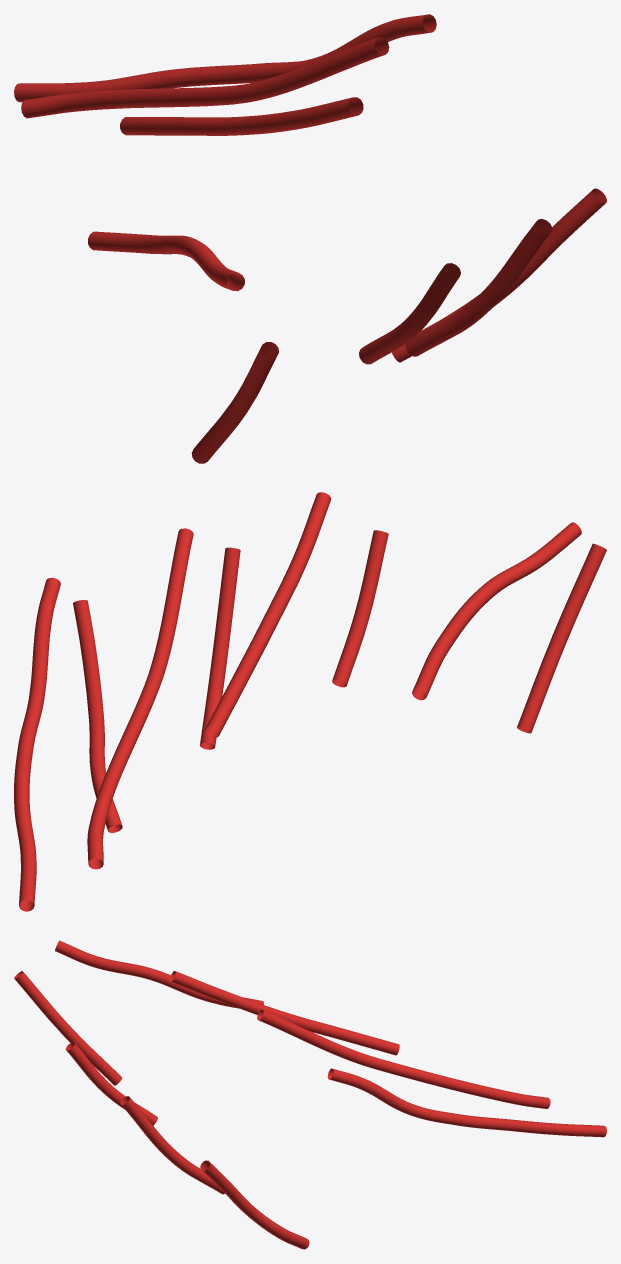
The model's file is circulatorio-intercapitular-veins-of-foot-l.glb.
The picture shows the model from 3 angles, top to bottom: view 1: azimuth 30°, elevation 25°; view 2: azimuth 150°, elevation 25°; view 3: azimuth 270°, elevation 25°; orthographic projection. The views are drawn at different scales.
Visible parts, largest first — view 1: Intercapitular veins of foot.l; view 2: Intercapitular veins of foot.l; view 3: Intercapitular veins of foot.l.
Boxes of the visible parts, x1=… form: Intercapitular veins of foot.l: x1=14, y1=14, x2=606, y2=463; Intercapitular veins of foot.l: x1=14, y1=492, x2=606, y2=911; Intercapitular veins of foot.l: x1=14, y1=940, x2=606, y2=1249.
Size of the model in its own units: 0.0423 by 0.0305 by 0.0706.
